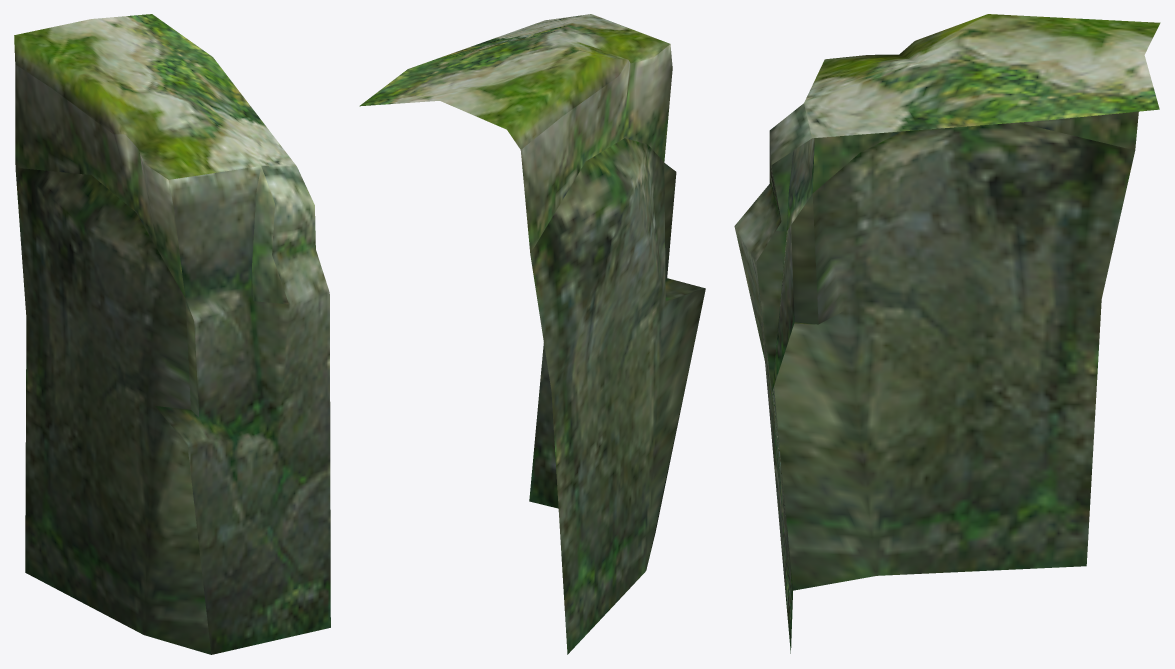
Rendered from S_Rock_Green048_1060_12.fbx.
3 renders of one model, left to right at view 1: azimuth 30°, elevation 25°; view 2: azimuth 150°, elevation 25°; view 3: azimuth 270°, elevation 25°, orthographic. The views are drawn at different scales.
Visible parts, largest first — view 1: S_Rock_Green048_1060_12; view 2: S_Rock_Green048_1060_12; view 3: S_Rock_Green048_1060_12.
Part boxes in pixels (<box>): S_Rock_Green048_1060_12: <box>14,14,330,654</box>; S_Rock_Green048_1060_12: <box>359,14,705,654</box>; S_Rock_Green048_1060_12: <box>734,14,1160,653</box>.
Size of the model in its own units: 717 by 2072 by 1416.
1 material, 1 textured.
